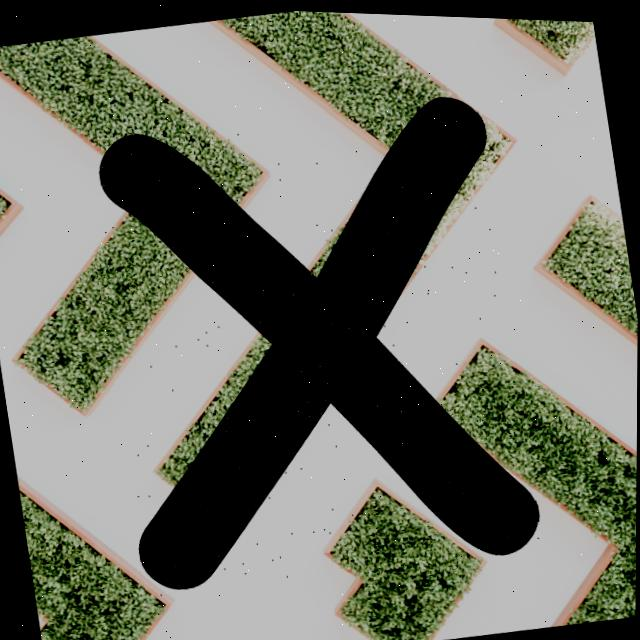X: (100, 93, 539, 589)
